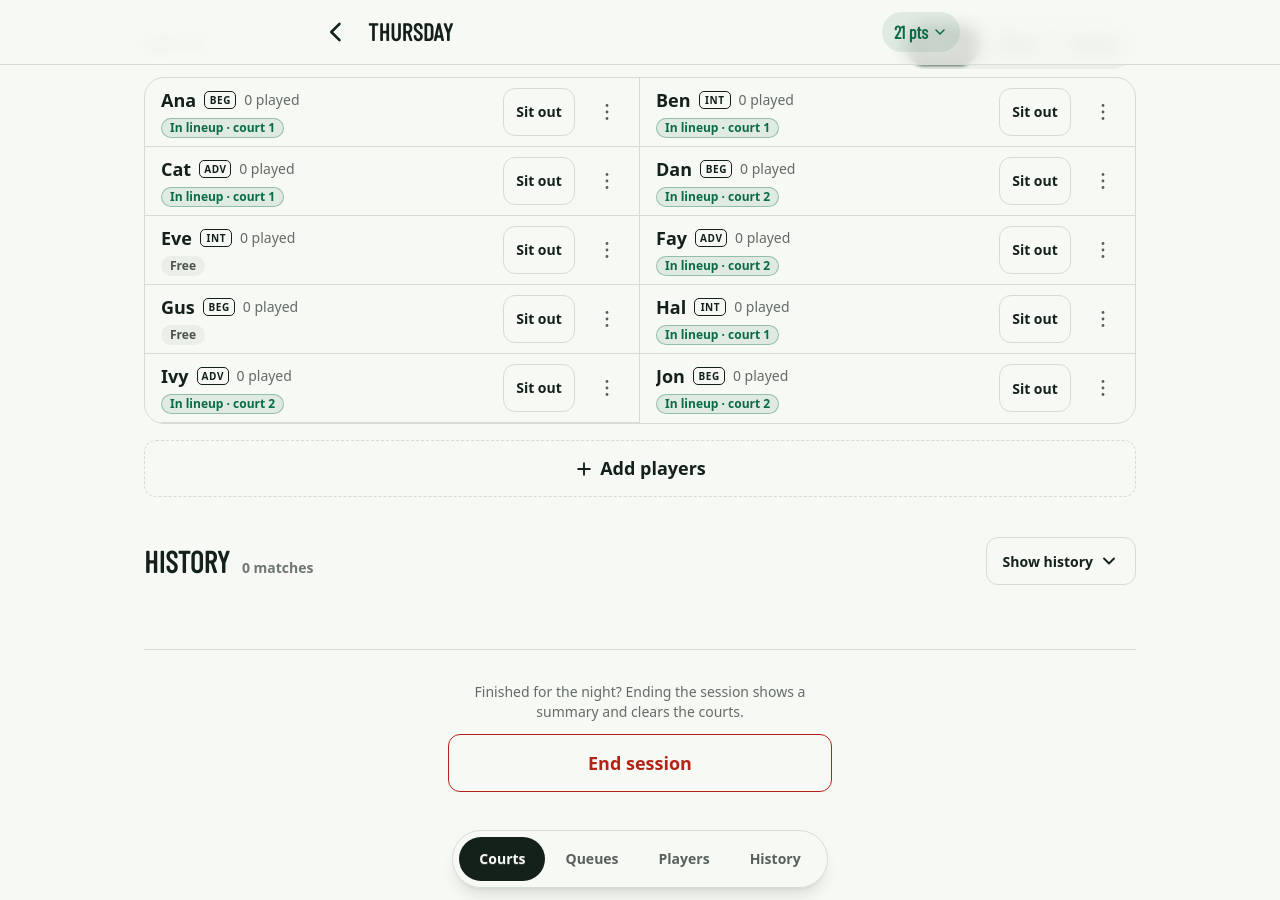
Test: HistorySection › before any match has ended, has the toggle and shows the empty state when opened
(page scrolled)
Expected: the text "0 matches" is shown, [242, 558, 314, 578]
Expected: the text "No matches played yet." is not shown
Click the button "Show history" at (1061, 561), box [986, 537, 1136, 585]
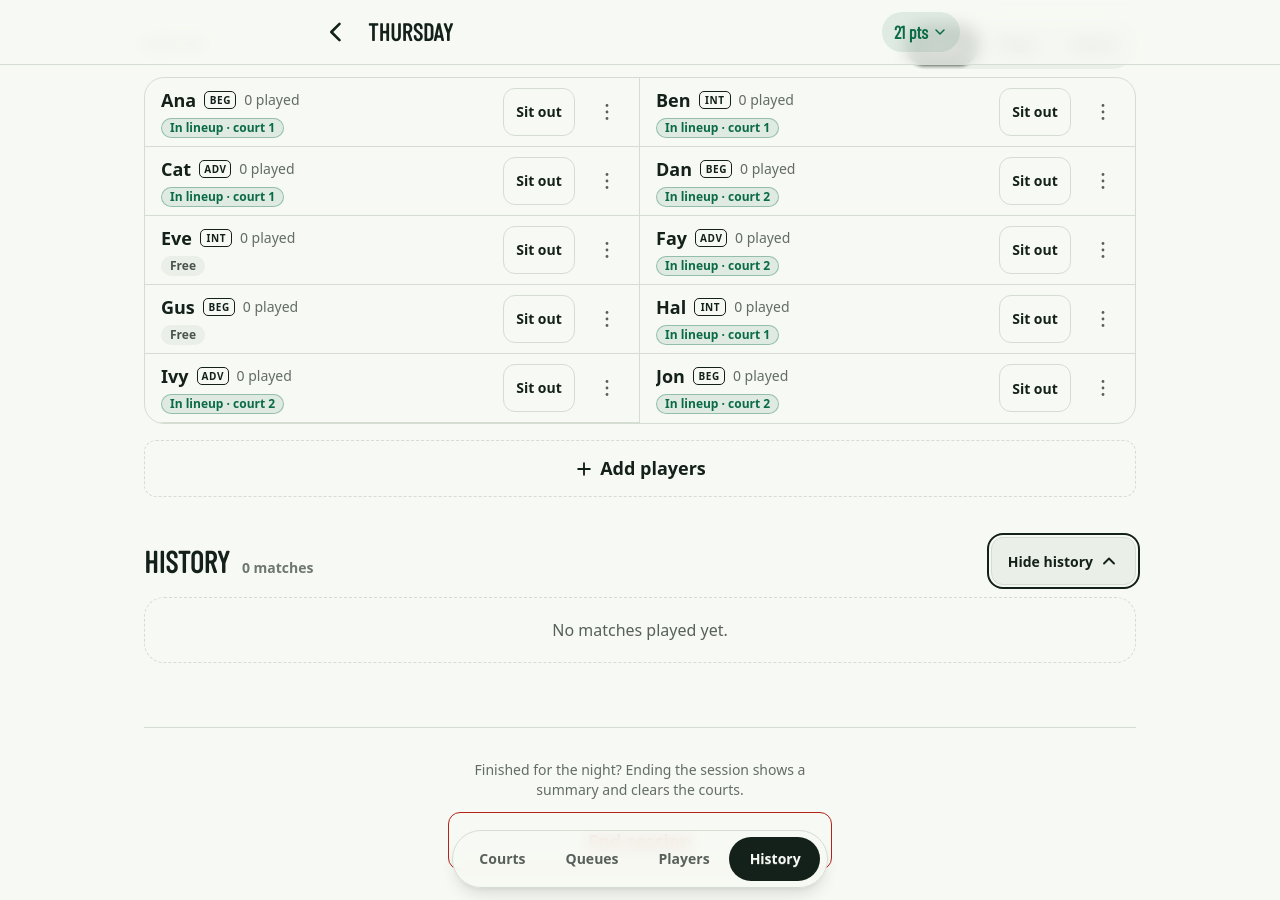
Now the text "No matches played yet." is shown, box [144, 597, 1136, 663]
